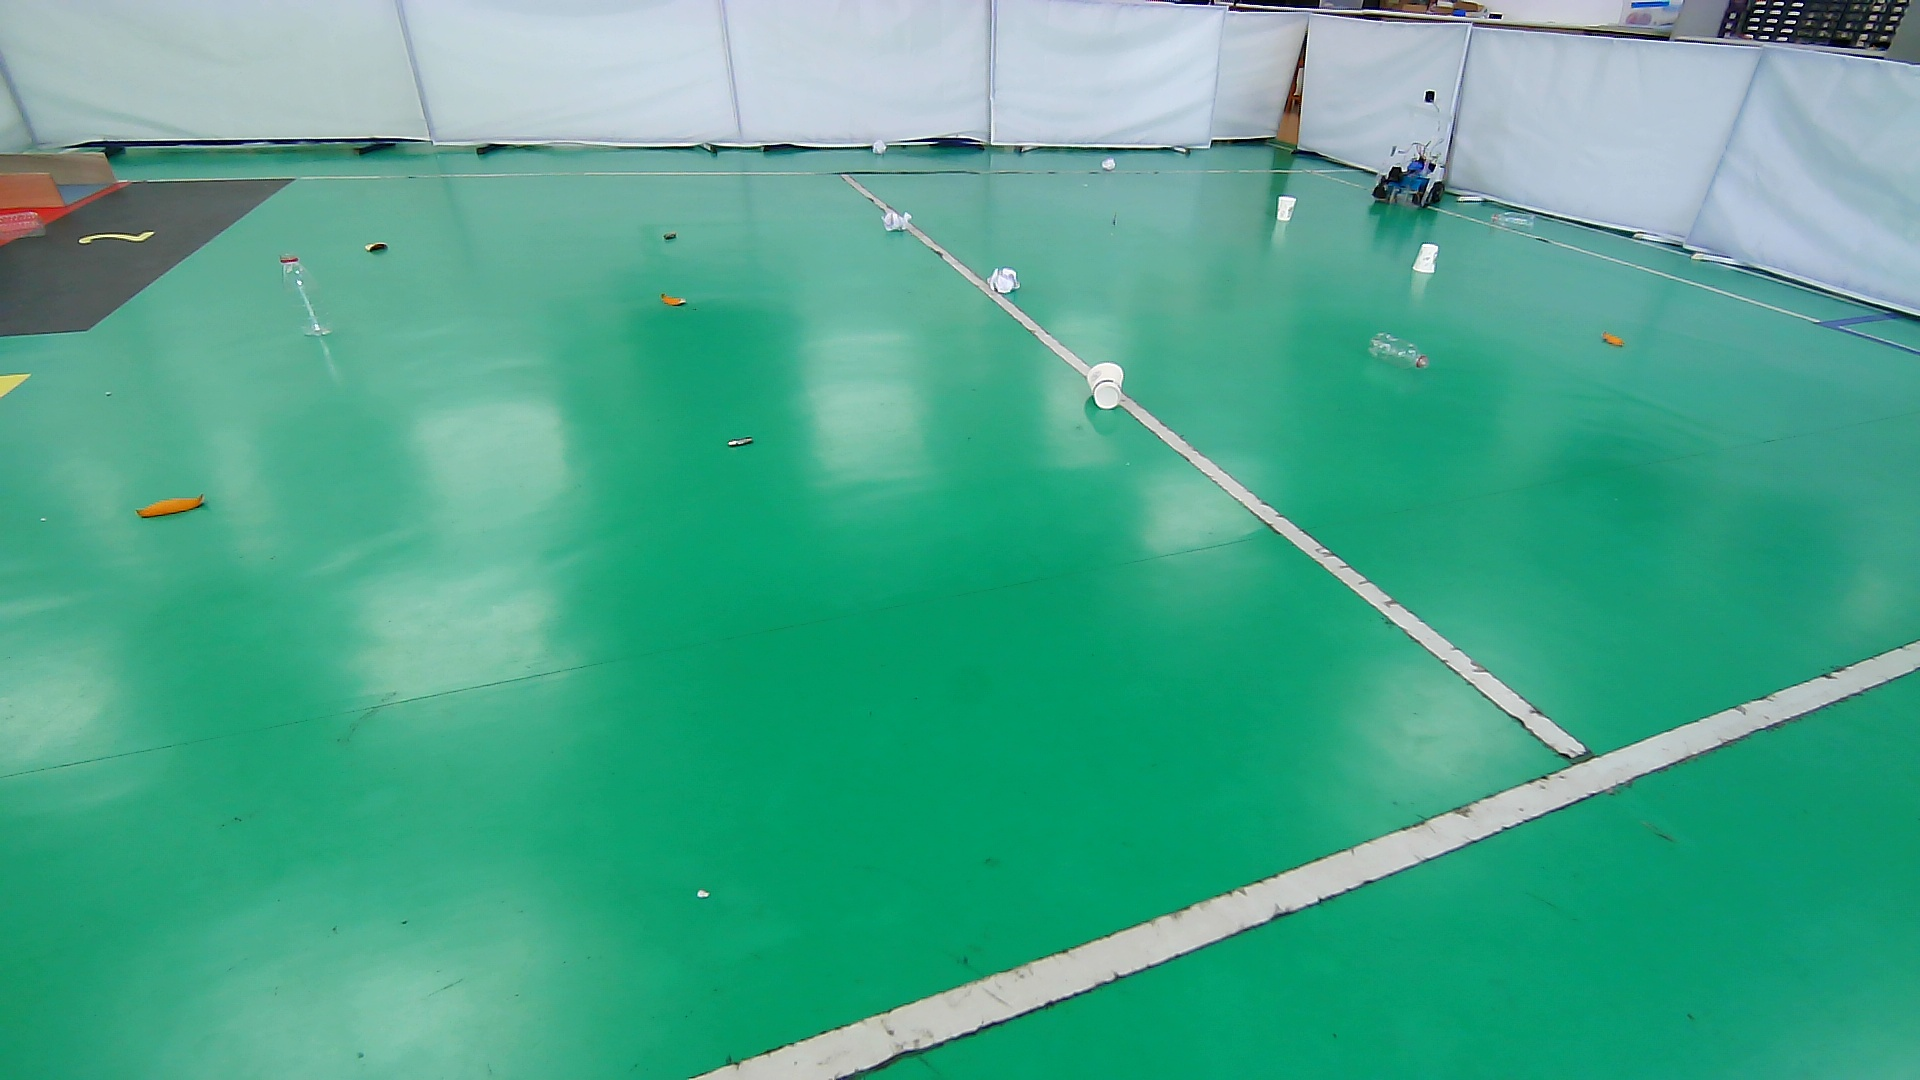battery: (721, 431, 760, 451), (657, 225, 684, 247)
bottle: (274, 247, 340, 344), (1364, 327, 1429, 373), (1486, 207, 1539, 232)
orangepeel: (133, 487, 208, 525), (655, 286, 694, 311), (360, 235, 393, 257), (1597, 328, 1630, 351)
papercup: (1080, 357, 1131, 411), (1406, 240, 1443, 276), (1270, 193, 1299, 227)
spitball: (982, 262, 1023, 295), (880, 207, 913, 237), (1098, 154, 1120, 174)
